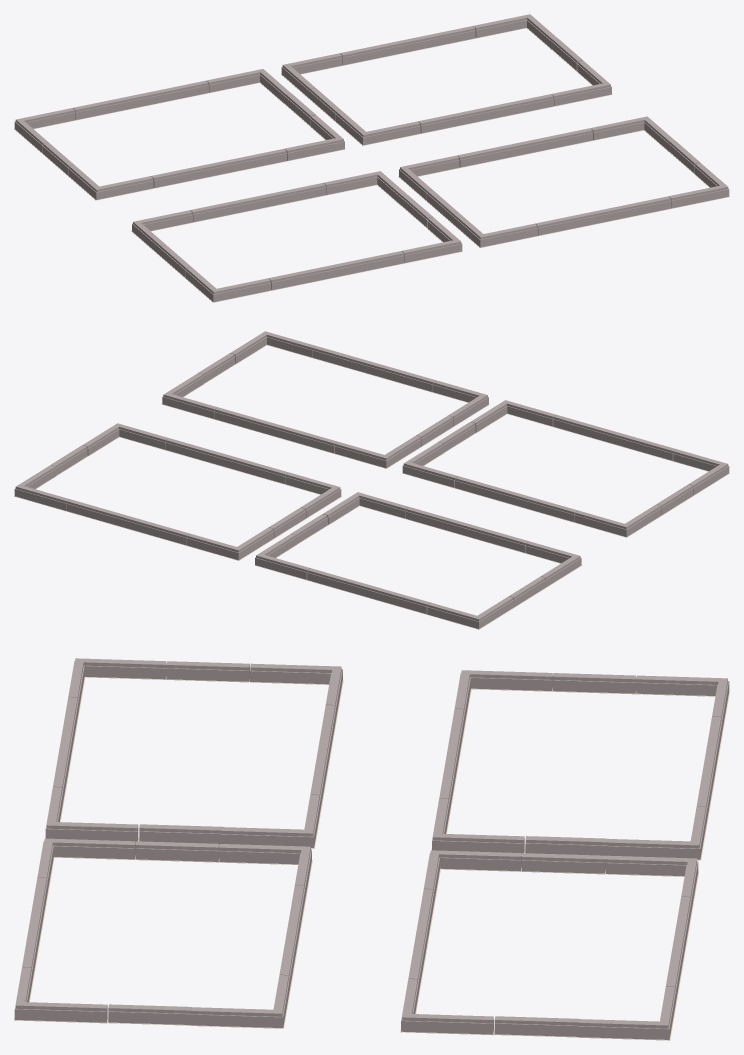
File: Room4015Zone4.fbx
3 renders of one model, top to bottom at view 1: azimuth 30°, elevation 25°; view 2: azimuth 150°, elevation 25°; view 3: azimuth 270°, elevation 25°, orthographic. The views are drawn at different scales.
Parts seen in each view (by area): view 1: Room4.015Zone4; view 2: Room4.015Zone4; view 3: Room4.015Zone4.
Boxes of the visible parts, left/top/right/bottom form: Room4.015Zone4: left=14, top=14, right=729, bottom=302; Room4.015Zone4: left=14, top=331, right=729, bottom=629; Room4.015Zone4: left=14, top=658, right=729, bottom=1040.
Size of the model in its own units: 5.68 by 0.104 by 4.66.
